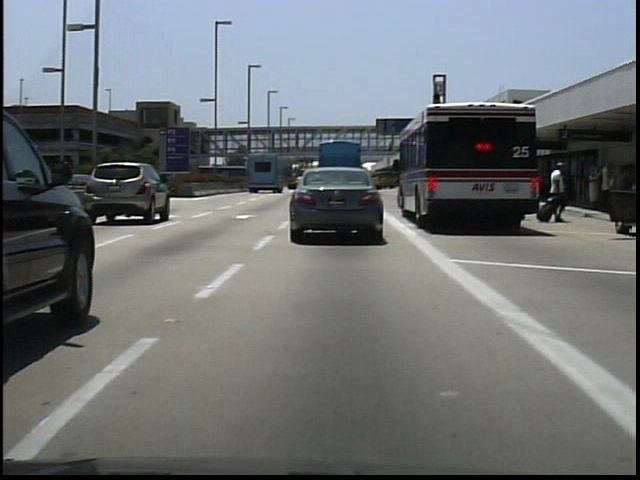person: (545, 159, 569, 225)
